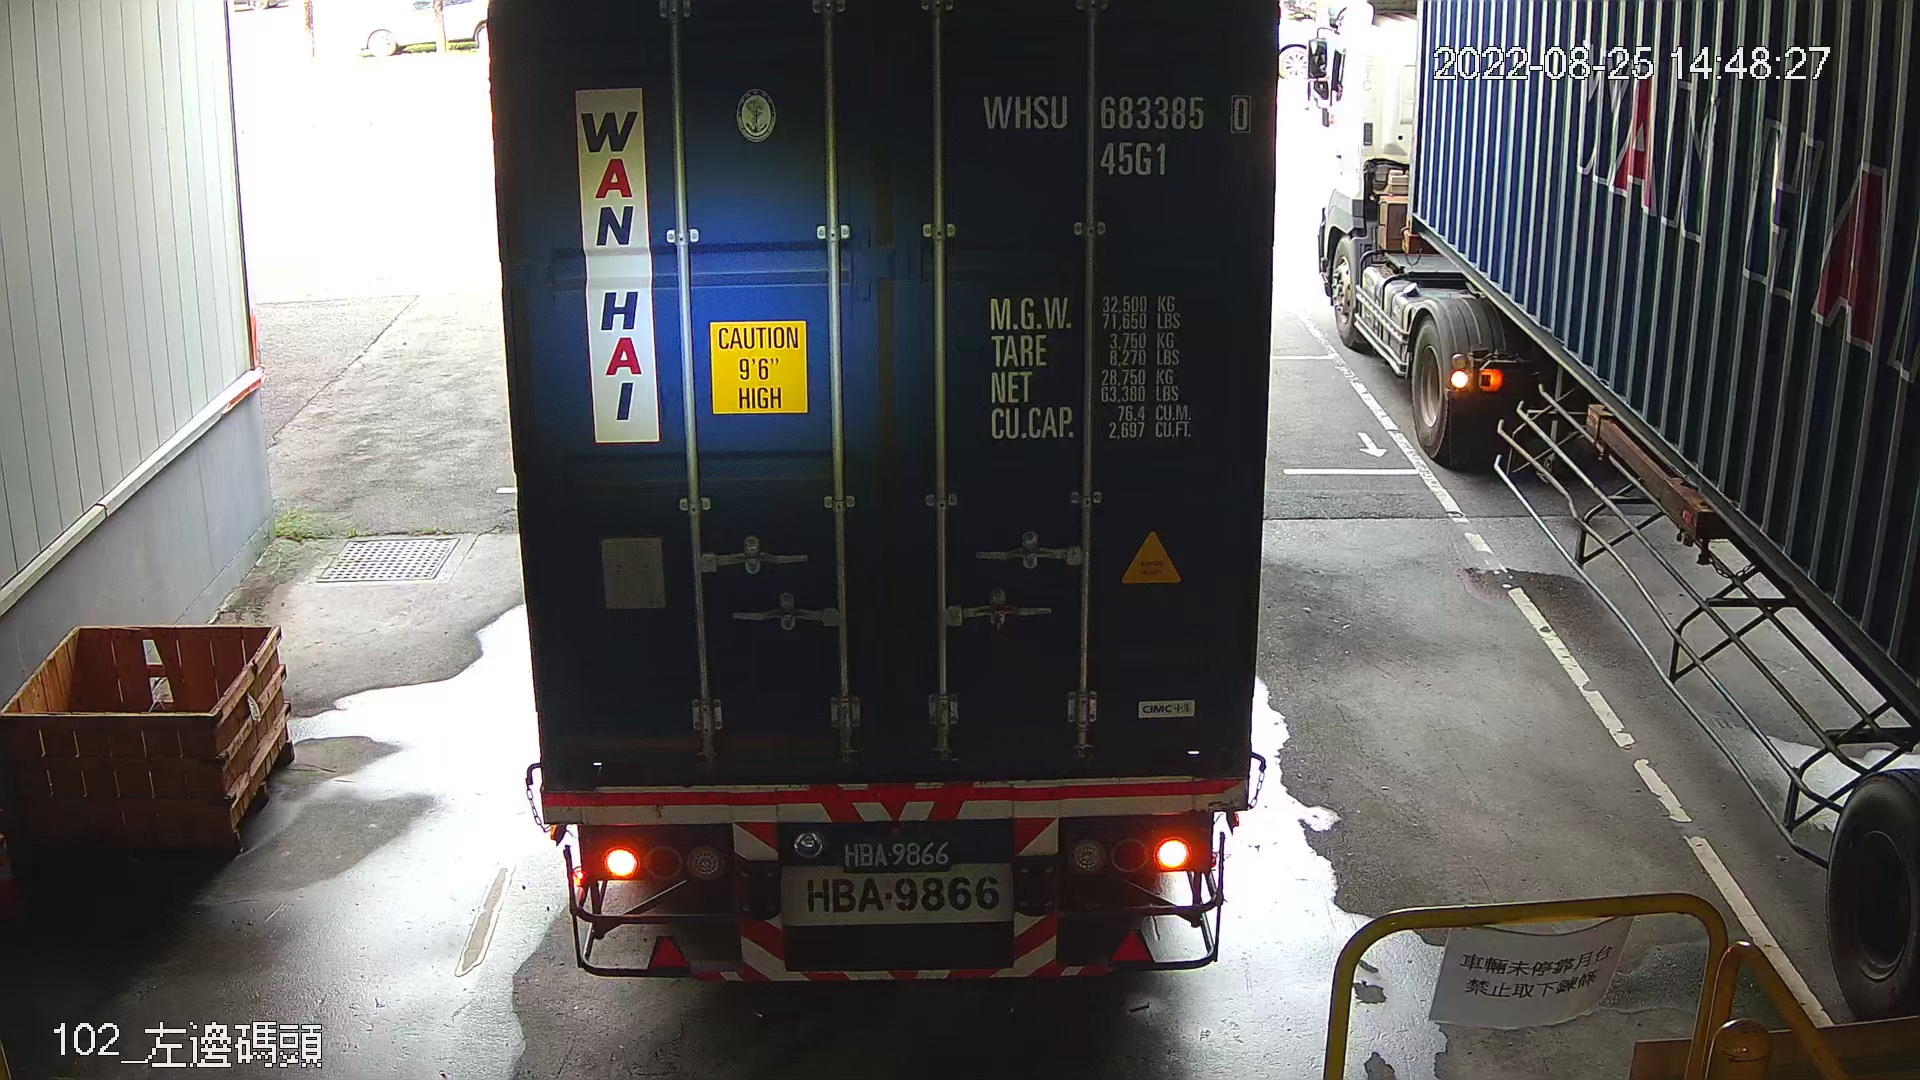container: (973, 76, 1262, 189)
